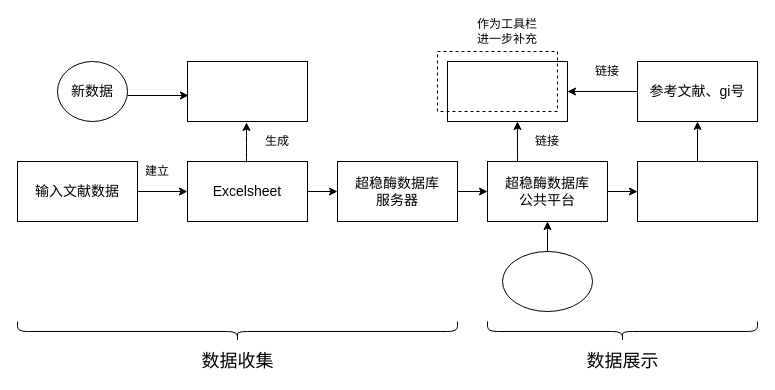
Some shapes in this 775 by 390 pixel diagram are drawn without their labels. The shapes that lost their labels are listed below. From the top down, each one's box as (x1, y1, x2, y2) in pixels, then its label:
(186, 60, 308, 122): 填入准则 （Excelsheet）
(446, 60, 568, 122): 文献来源、NCBI、BLAST……
(636, 160, 758, 222): 搜索结果
(502, 250, 592, 312): 关键字检索
